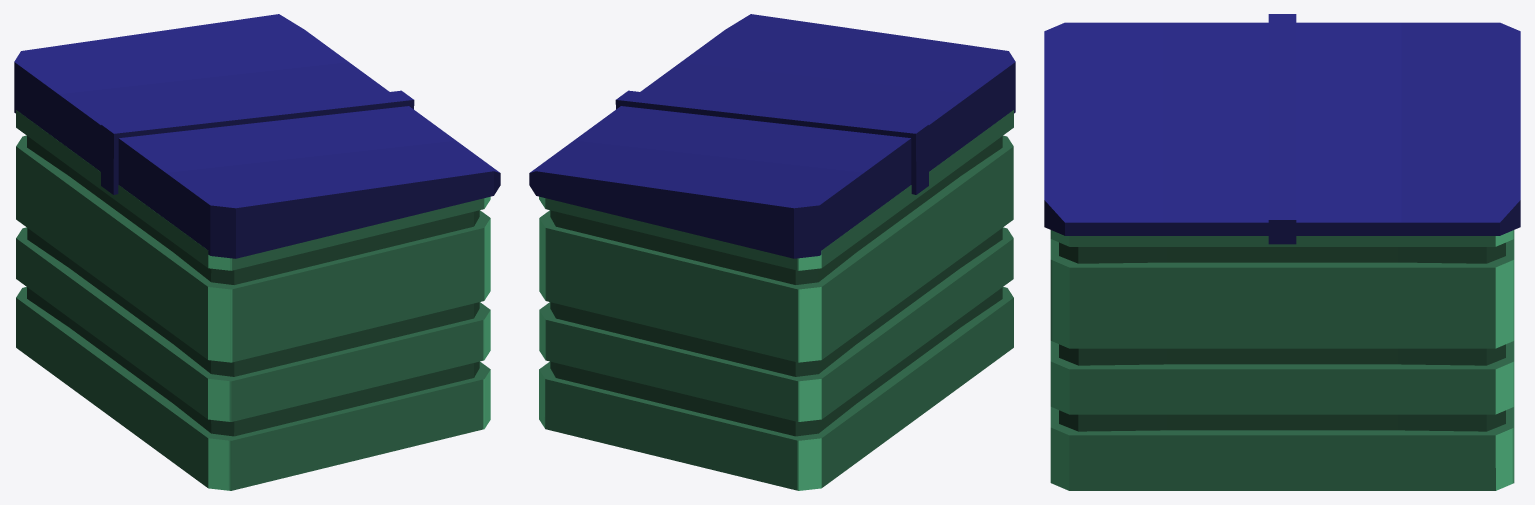
Rendered from GarbageDumpClosed.glb.
The picture shows the model from 3 angles, left to right: view 1: azimuth 30°, elevation 25°; view 2: azimuth 150°, elevation 25°; view 3: azimuth 270°, elevation 25°; orthographic projection. The views are drawn at different scales.
Visible parts, largest first — view 1: Cube, Cube.001; view 2: Cube, Cube.001; view 3: Cube, Cube.001.
Boxes of the visible parts, x1,y1,x2,y2 form: Cube: [16, 110, 490, 490]; Cube.001: [14, 14, 500, 258]; Cube: [539, 110, 1013, 490]; Cube.001: [529, 14, 1015, 258]; Cube: [1050, 230, 1514, 490]; Cube.001: [1044, 14, 1520, 244].
Bounding box in the file's own units: 1.66 × 1.53 × 2.06.
2 materials, 2 textured.
